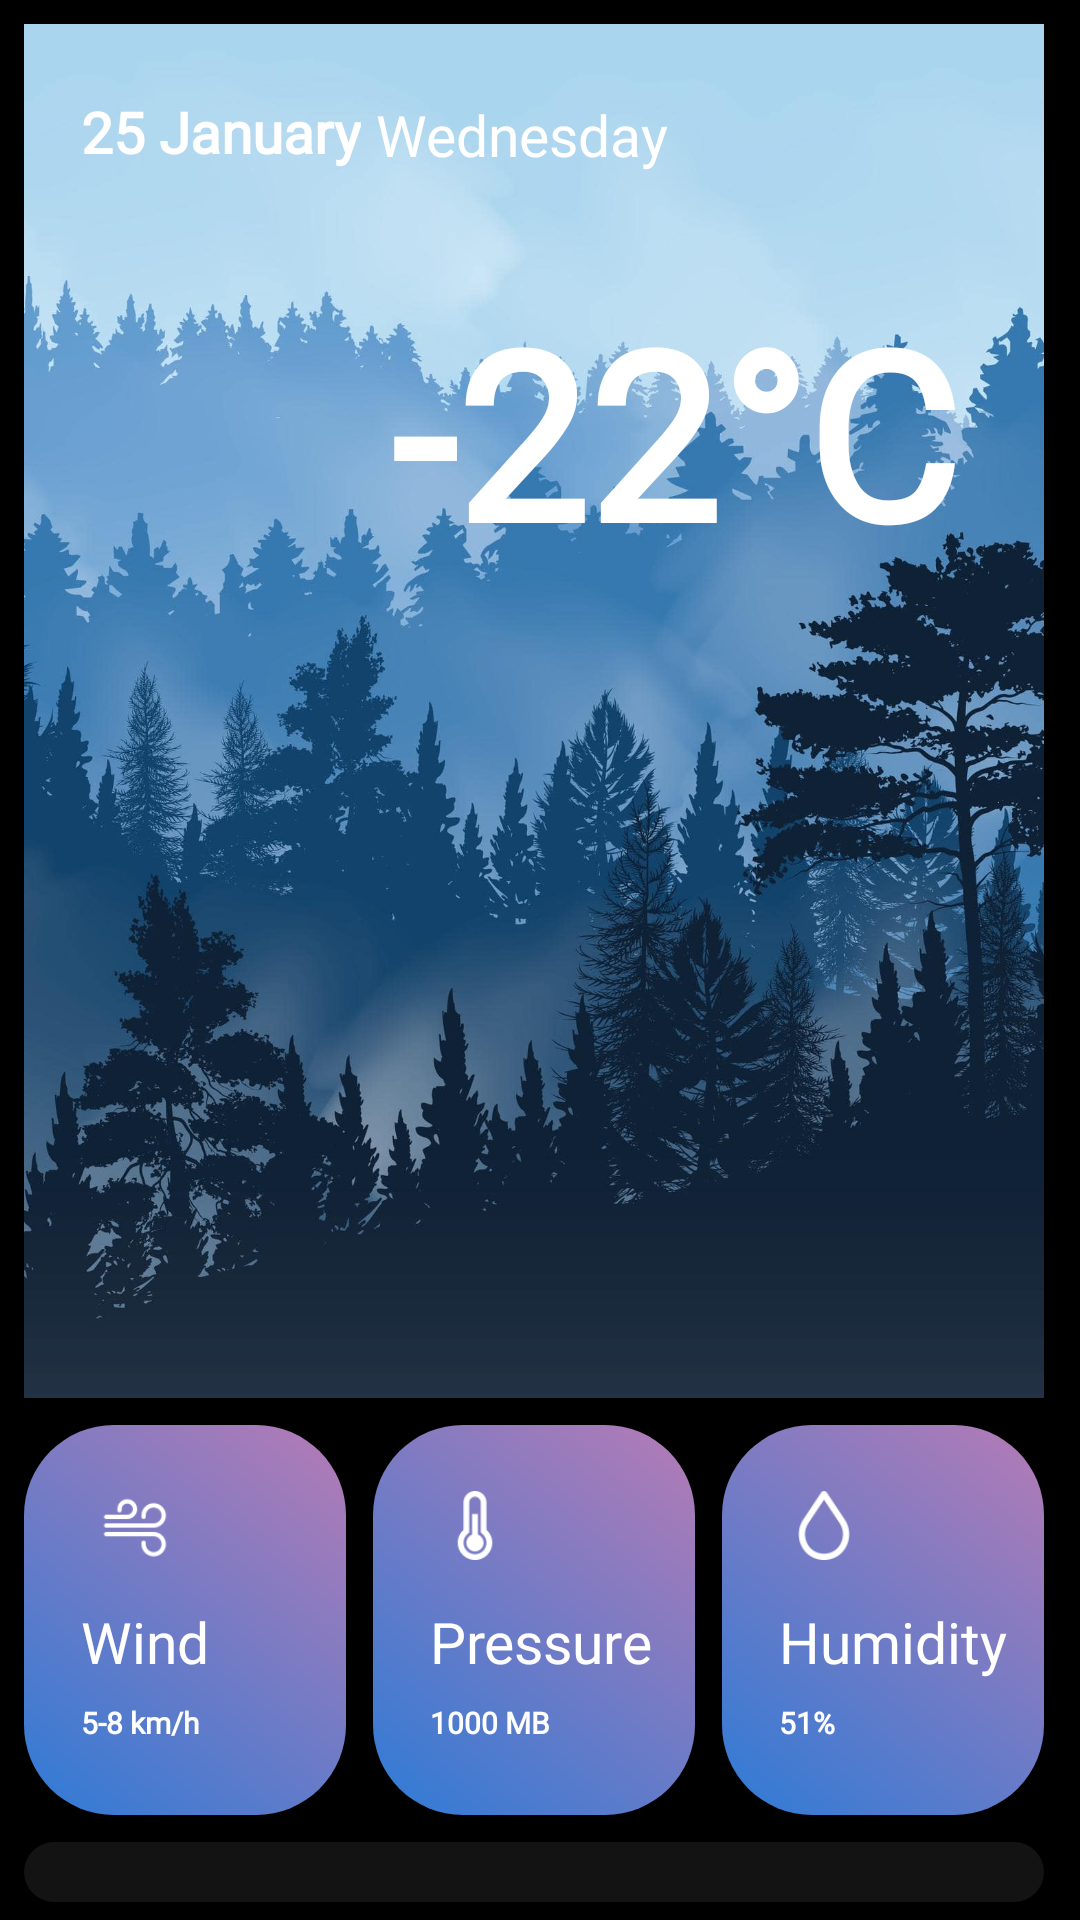

Screen size 1080 x 1920. Icon name, then its box in pixels as (x1, y1, x2, y2):
thermometer: (457, 1491, 493, 1560)
water: (798, 1491, 850, 1560)
